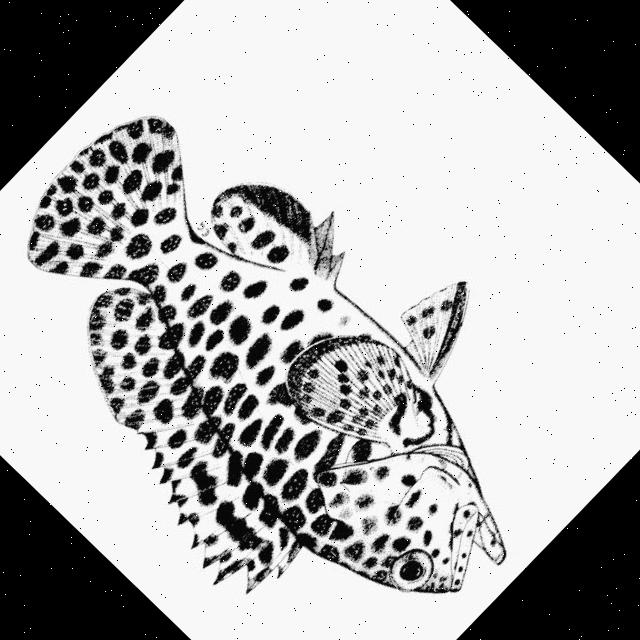ikan: (0, 26, 624, 640)
